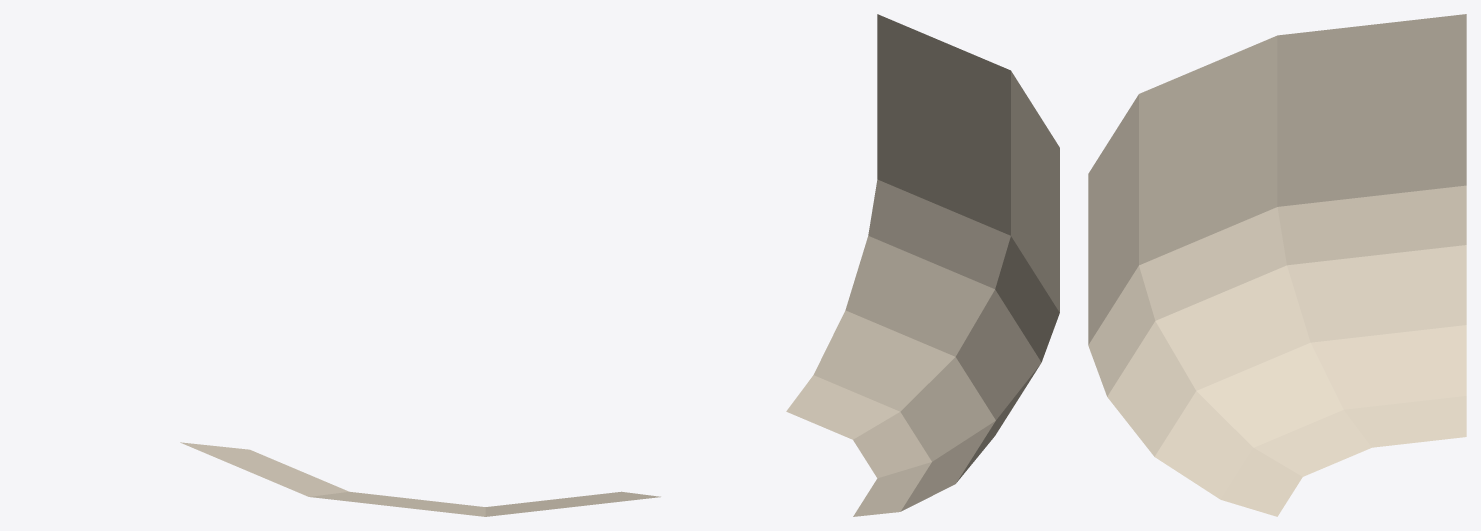
Rendered from Escarpment_Terrain_Corner_Inner_1x1_Base.glb.
The picture shows the model from 3 angles, left to right: view 1: azimuth 30°, elevation 25°; view 2: azimuth 150°, elevation 25°; view 3: azimuth 270°, elevation 25°; orthographic projection. The views are drawn at different scales.
Visible parts, largest first — view 1: Escarpment_Terrain_Corner_Inner_1x1_Base; view 2: Escarpment_Terrain_Corner_Inner_1x1_Base; view 3: Escarpment_Terrain_Corner_Inner_1x1_Base.
Boxes of the visible parts, bbox=[...] form: Escarpment_Terrain_Corner_Inner_1x1_Base: bbox=[180, 442, 660, 516]; Escarpment_Terrain_Corner_Inner_1x1_Base: bbox=[786, 14, 1059, 516]; Escarpment_Terrain_Corner_Inner_1x1_Base: bbox=[1088, 14, 1466, 516].
Size of the model in its own units: 1 by 1 by 1.
